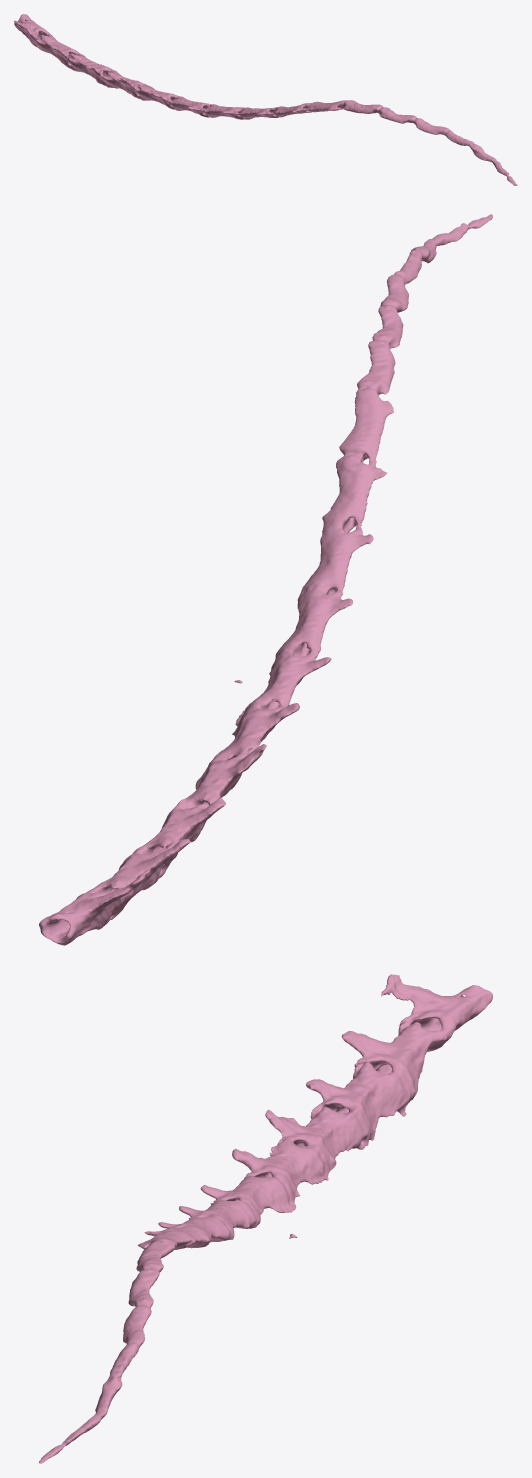
File: caudalsDist.glb
The picture shows the model from 3 angles, top to bottom: view 1: azimuth 30°, elevation 25°; view 2: azimuth 150°, elevation 25°; view 3: azimuth 330°, elevation 25°; orthographic projection. The views are drawn at different scales.
Parts seen in each view (by area): view 1: caudalsDist; view 2: caudalsDist; view 3: caudalsDist.
Part boxes in pixels (bbox=[...]): caudalsDist: bbox=[14, 14, 517, 185]; caudalsDist: bbox=[39, 214, 492, 945]; caudalsDist: bbox=[39, 974, 492, 1463].
Size of the model in its own units: 0.0172 by 0.0101 by 0.0633.
